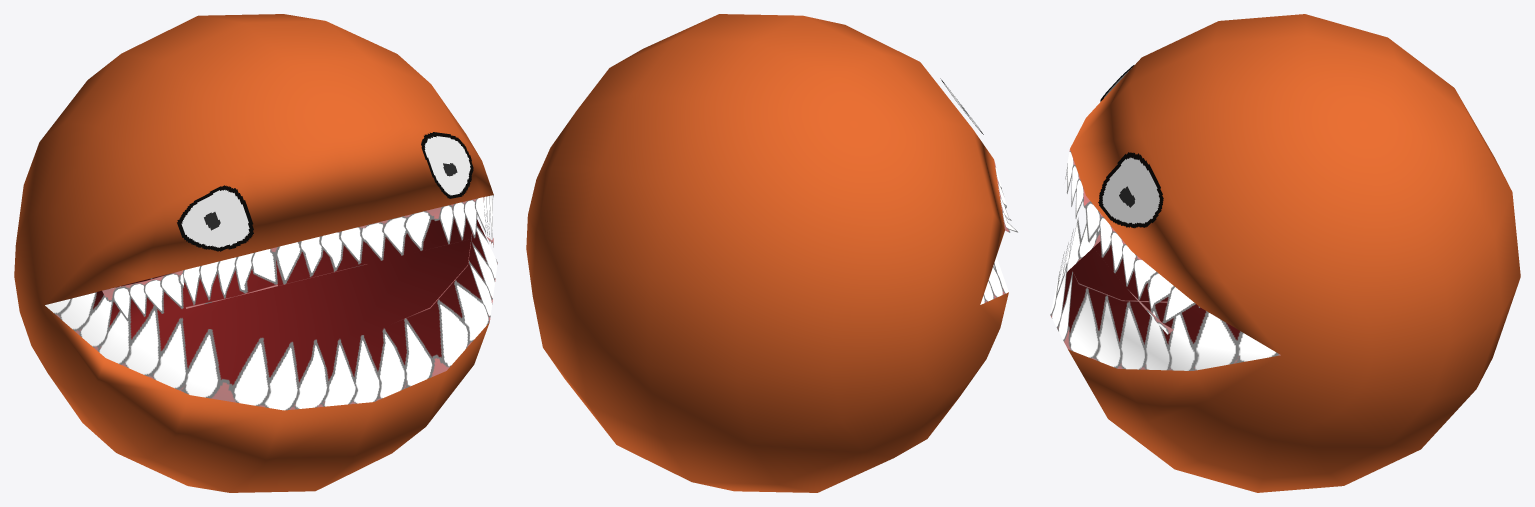
The model's file is pacman.glb.
The picture shows the model from 3 angles, left to right: view 1: azimuth 30°, elevation 25°; view 2: azimuth 150°, elevation 25°; view 3: azimuth 270°, elevation 25°; orthographic projection.
Parts seen in each view (by area): view 1: Sphere; view 2: Sphere; view 3: Sphere.
Part boxes in pixels (x1,y1,x2,y2): Sphere: [14, 14, 497, 492]; Sphere: [526, 14, 1017, 492]; Sphere: [1050, 14, 1520, 492].
Bounding box in the file's own units: 1 × 0.9942 × 0.9769.
4 materials, 3 textured.
